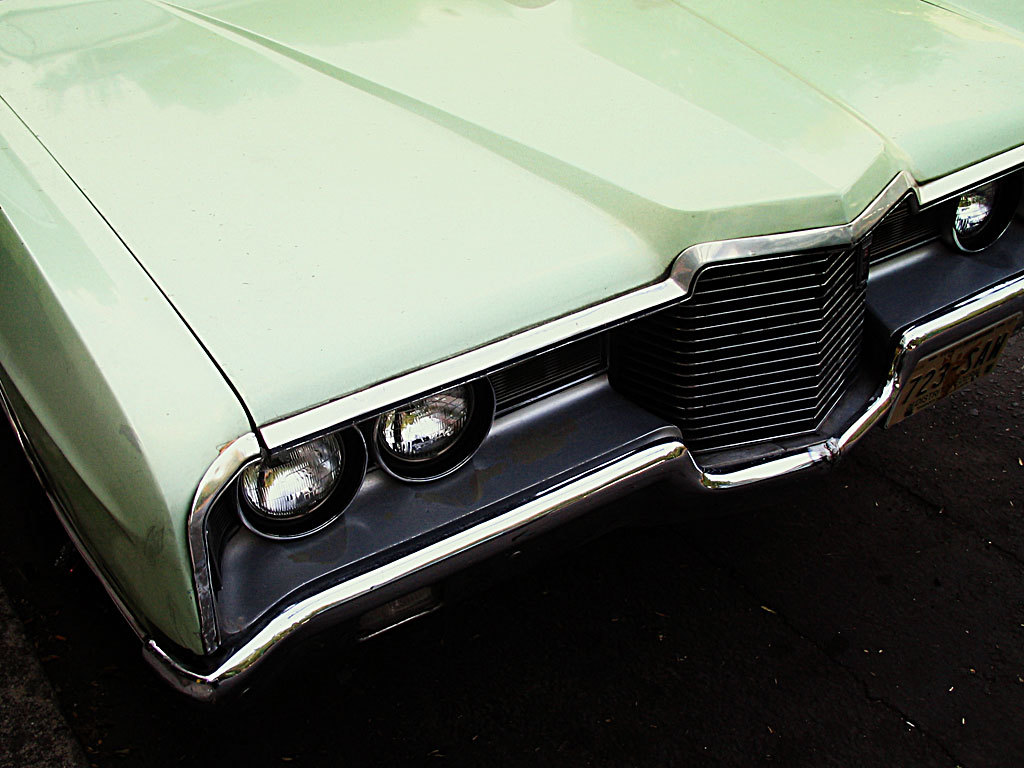Car: (1, 44, 1020, 695)
